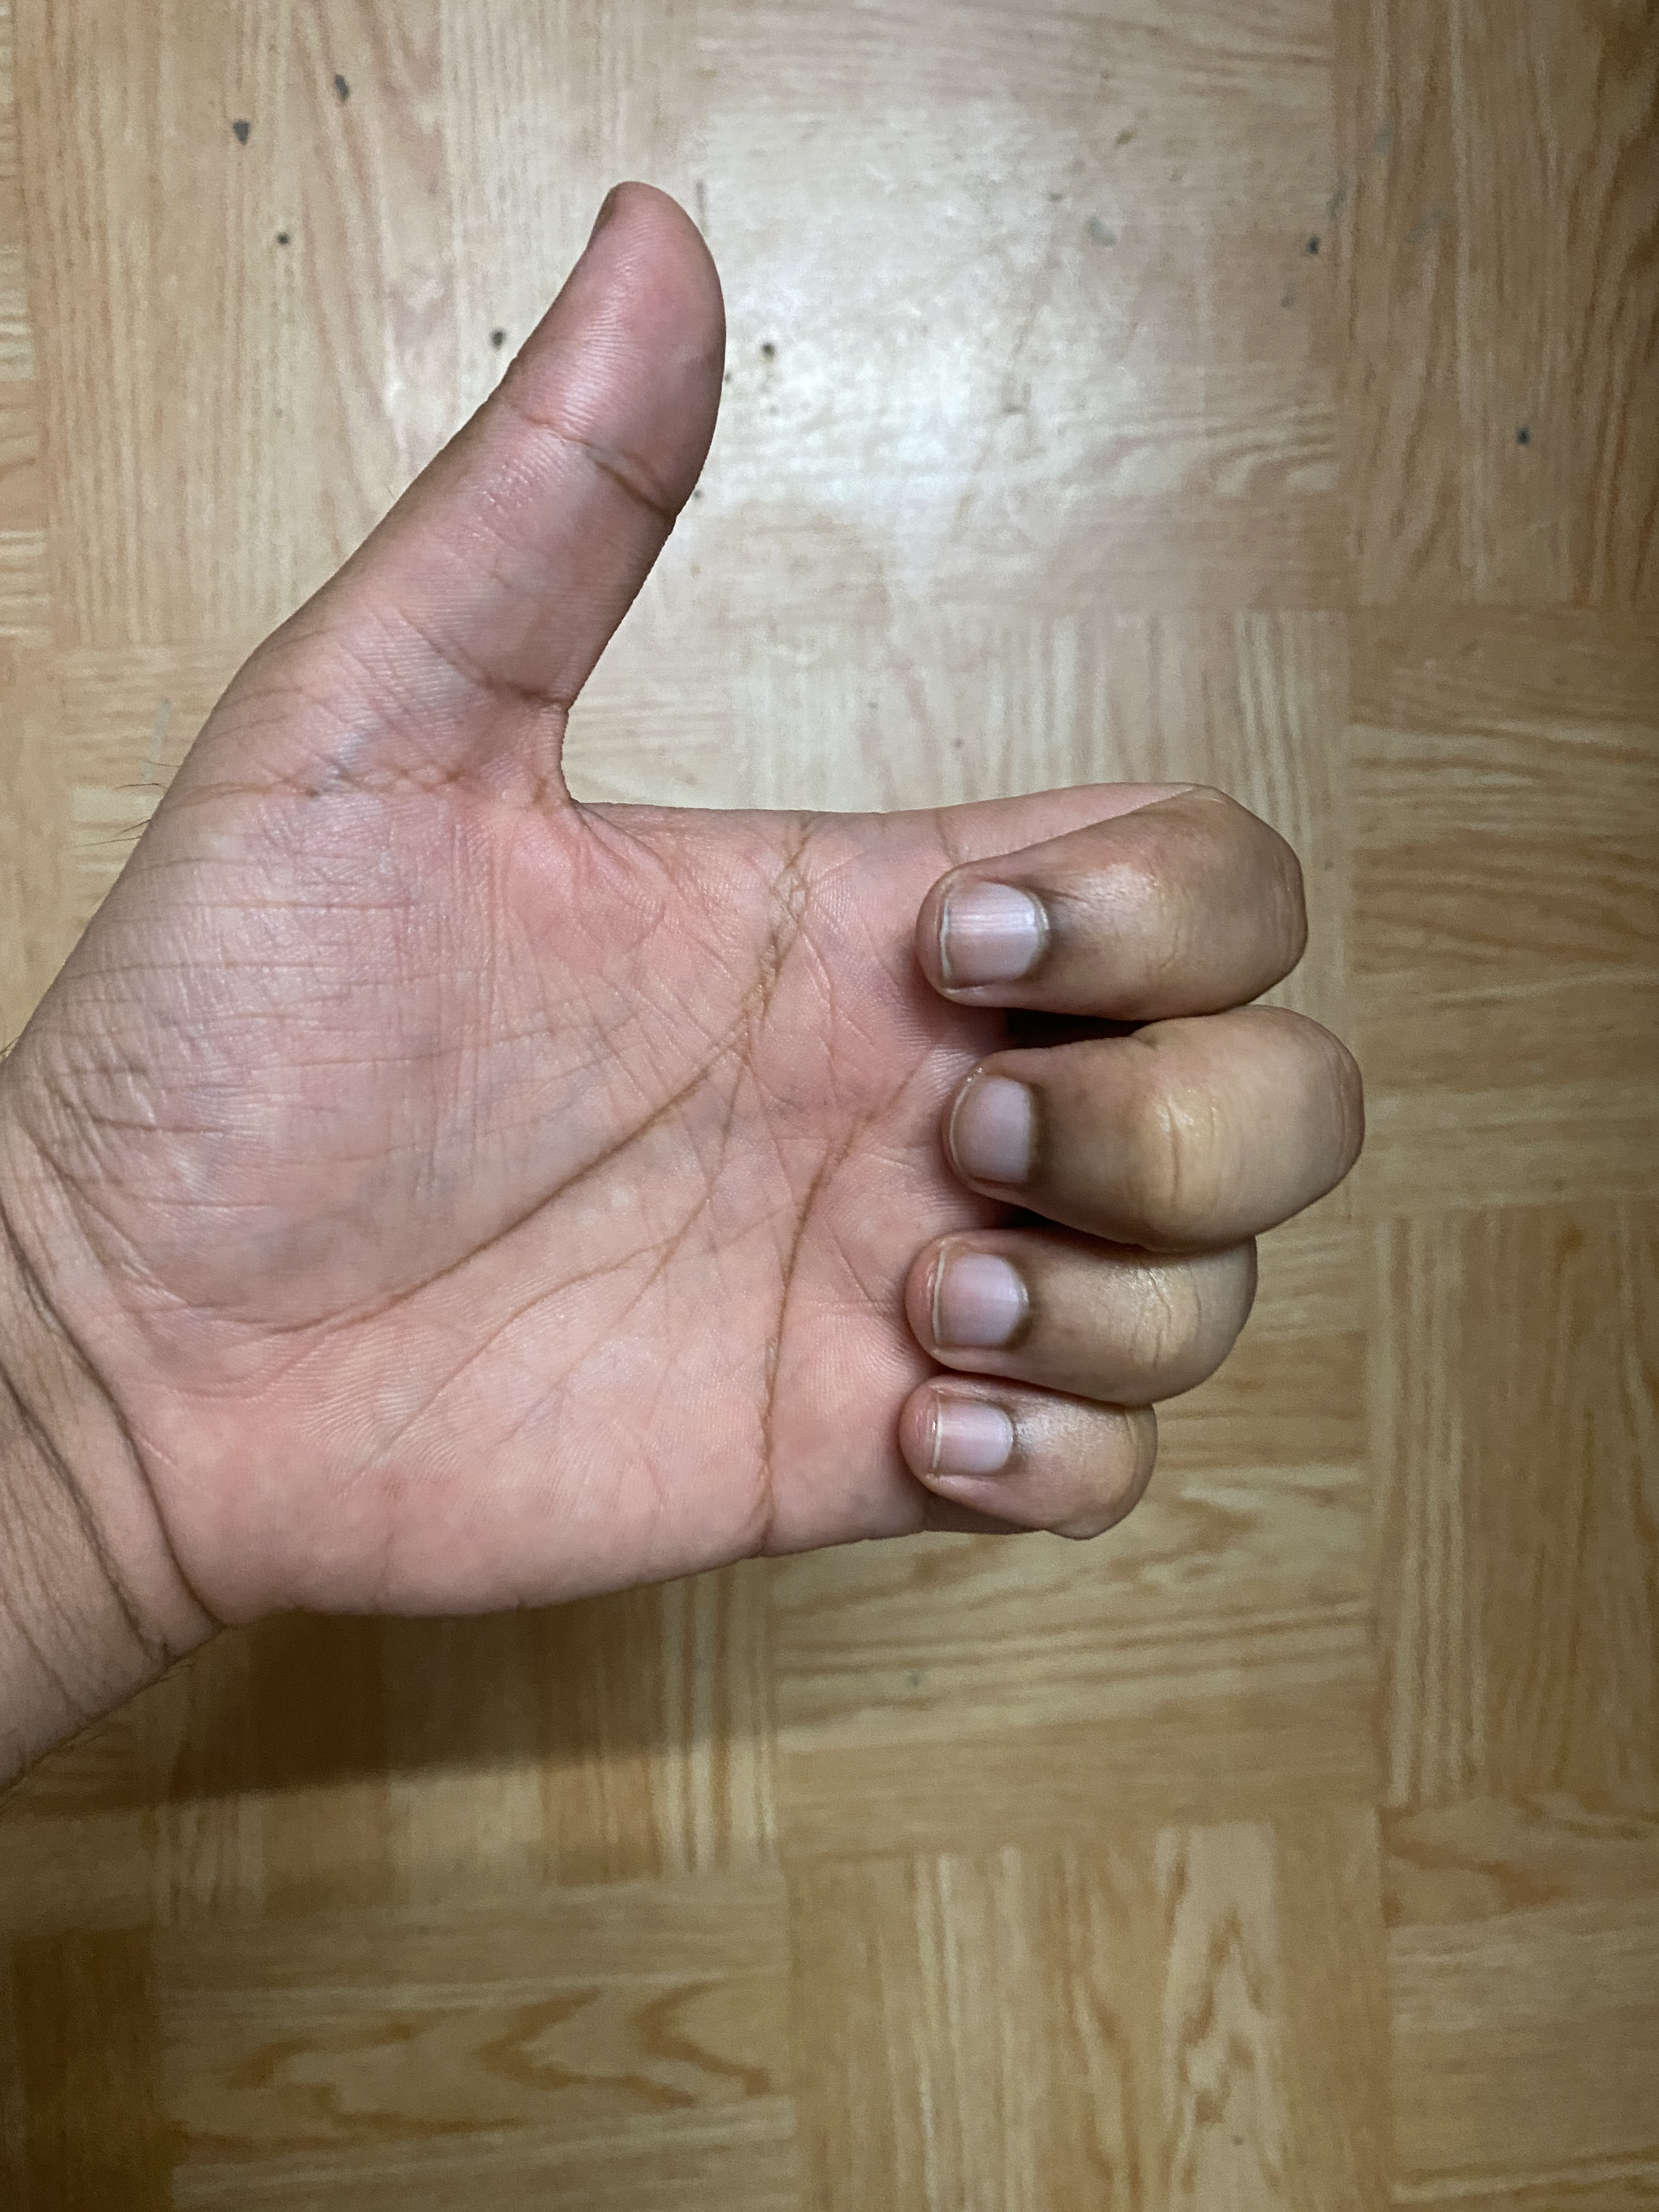up: (12, 152, 1476, 1759)
